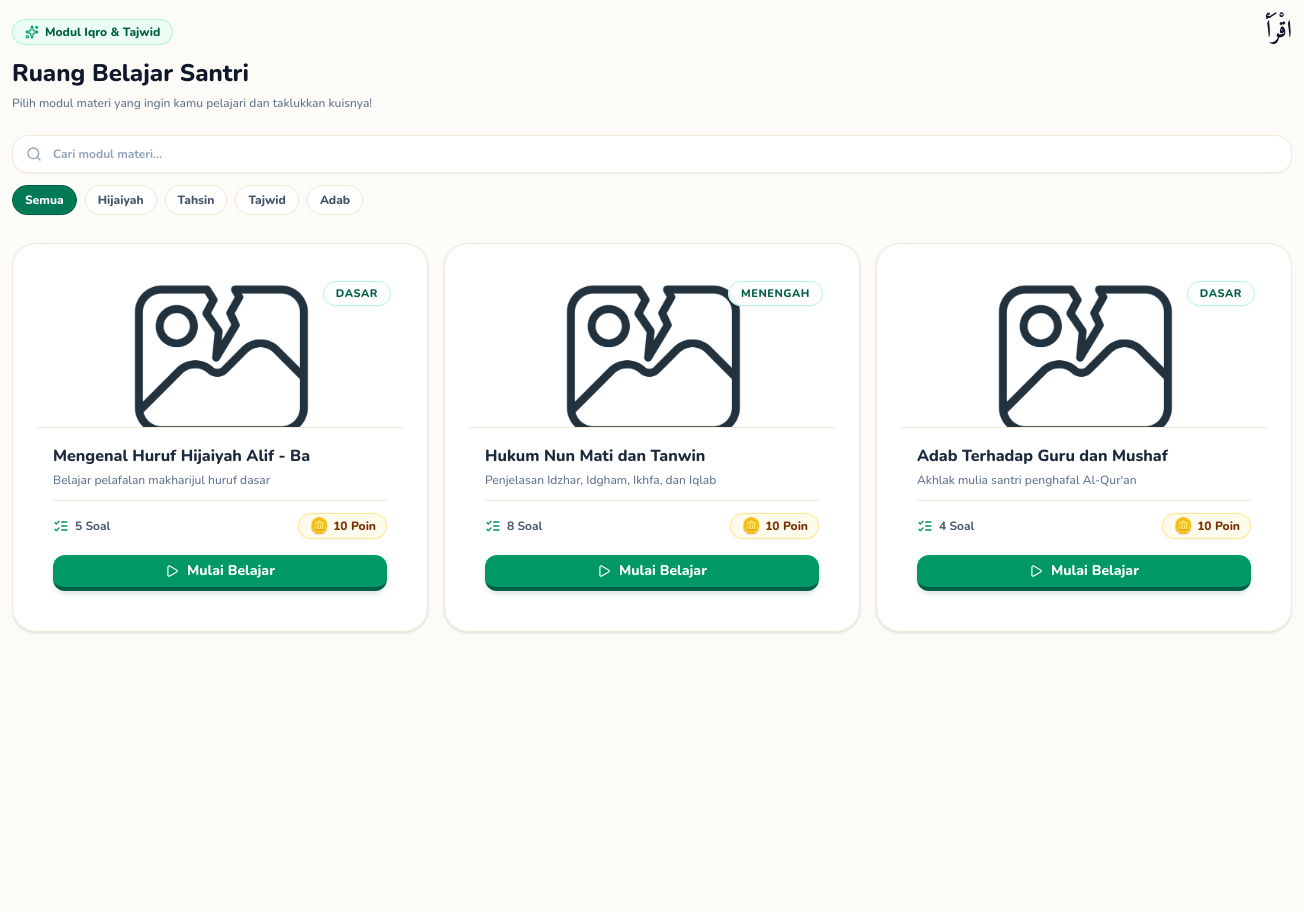
Test case: CoursesPage Interactive Filtering › displays empty state when no courses match filter and resets when clicked
The image size is (1304, 912).
Expected: the heading "Mengenal Huruf Hijaiyah Alif - Ba" is shown, [53,445,310,467]
Type "ZzzNotFound" into the field with placeholder "Cari modul materi..." at (652,154), box [12,135,1292,173]
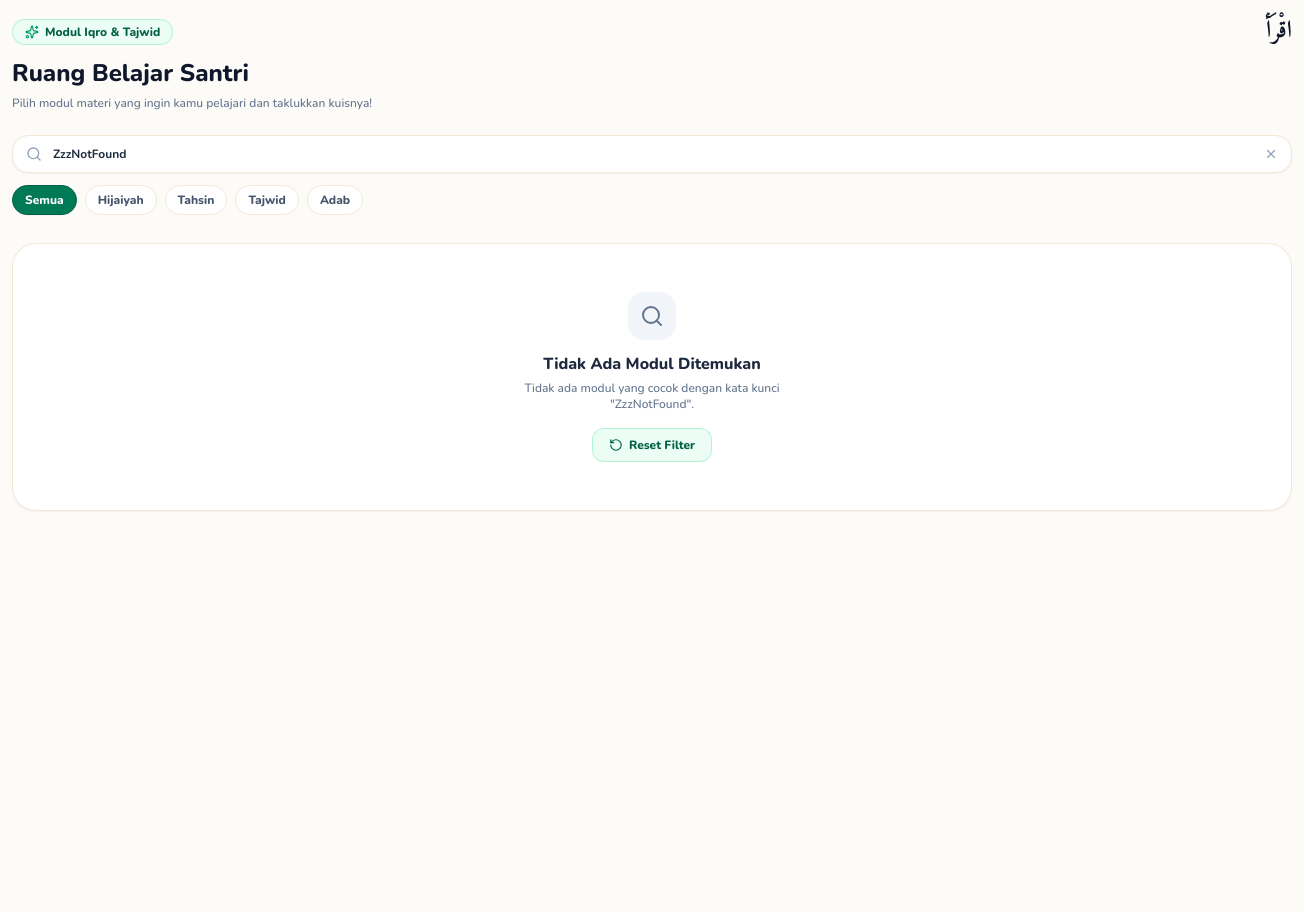
Expected: the heading "Tidak Ada Modul Ditemukan" is shown, [543,352,761,376]
Click the button "Reset Filter" at (652,445), box [592,428,712,462]
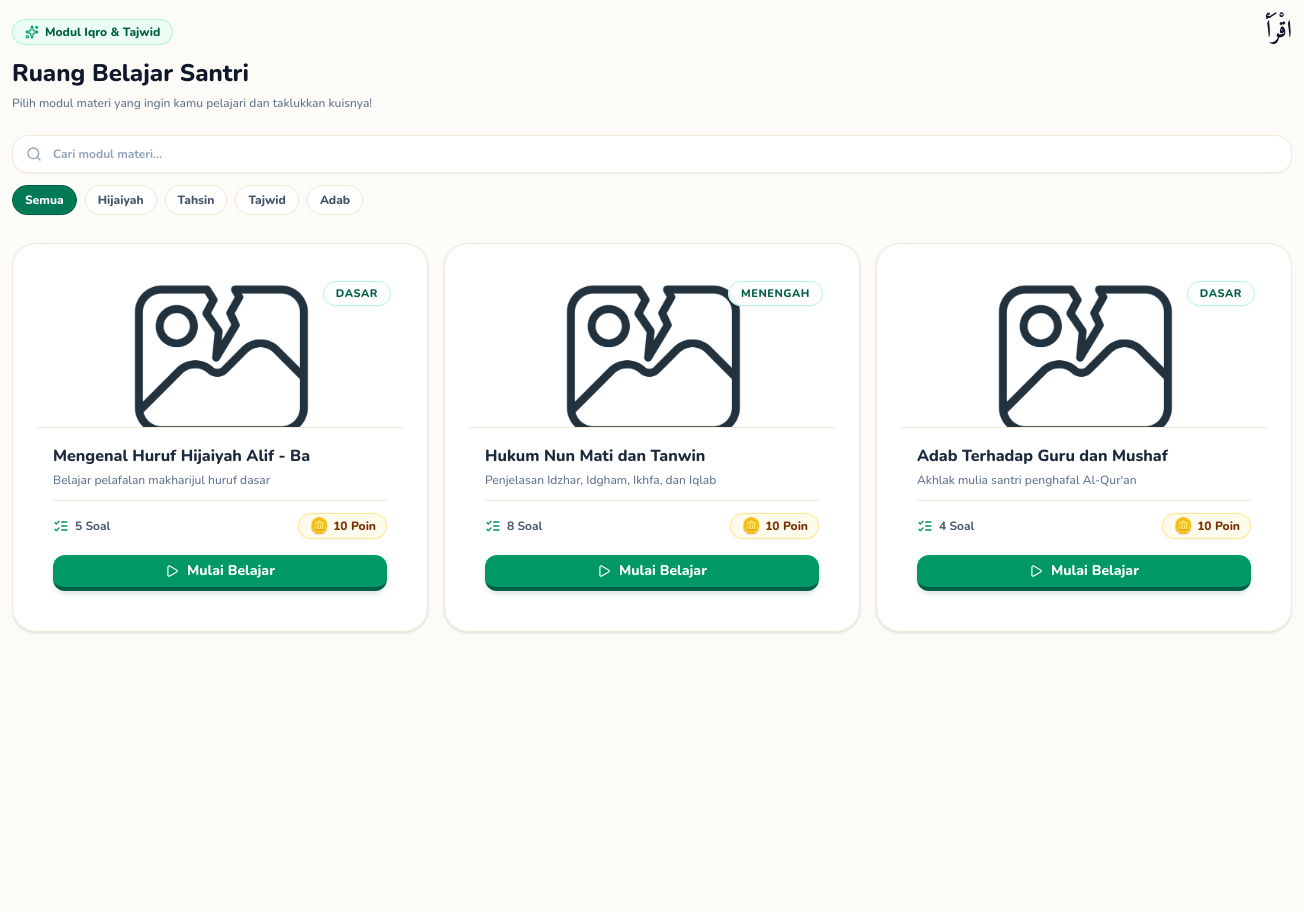
Expected: the heading "Mengenal Huruf Hijaiyah Alif - Ba" is shown, [53,445,310,467]
